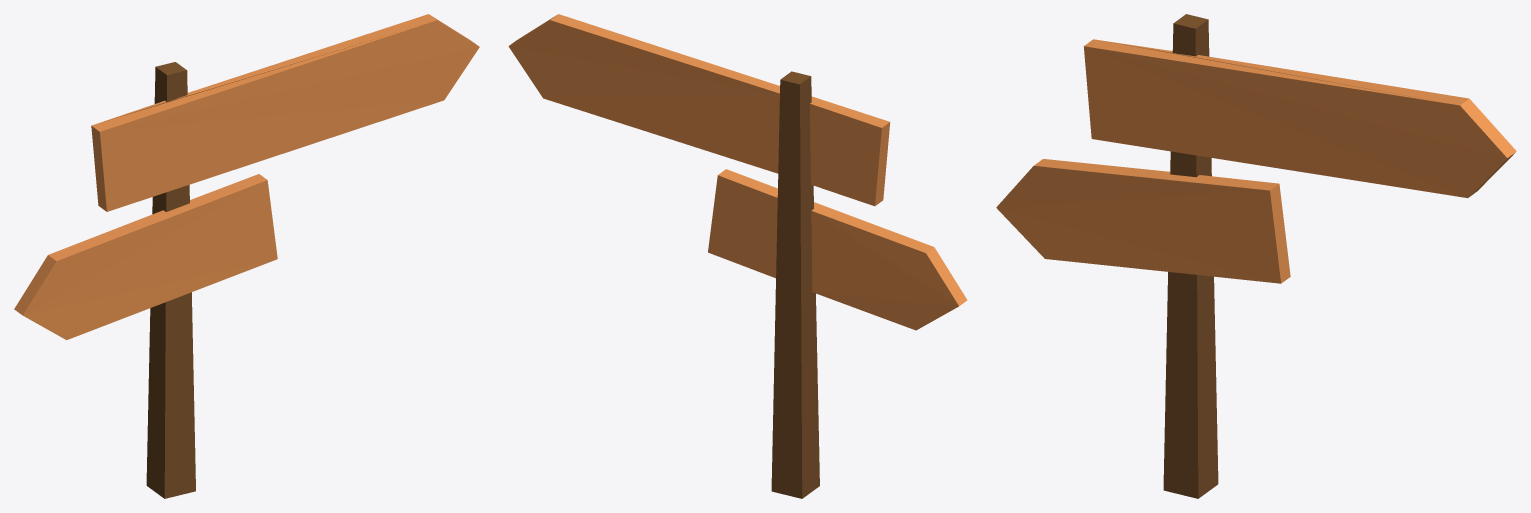
File: sign-main.glb
The picture shows the model from 3 angles, left to right: view 1: azimuth 30°, elevation 25°; view 2: azimuth 150°, elevation 25°; view 3: azimuth 330°, elevation 25°; orthographic projection. The views are drawn at different scales.
Visible parts, largest first — view 1: signpost.003; view 2: signpost.003; view 3: signpost.003.
Boxes of the visible parts, bbox=[...] form: signpost.003: bbox=[14, 14, 479, 498]; signpost.003: bbox=[508, 14, 967, 498]; signpost.003: bbox=[996, 14, 1516, 498].
Size of the model in its own units: 9.12 by 7.98 by 0.7764.
